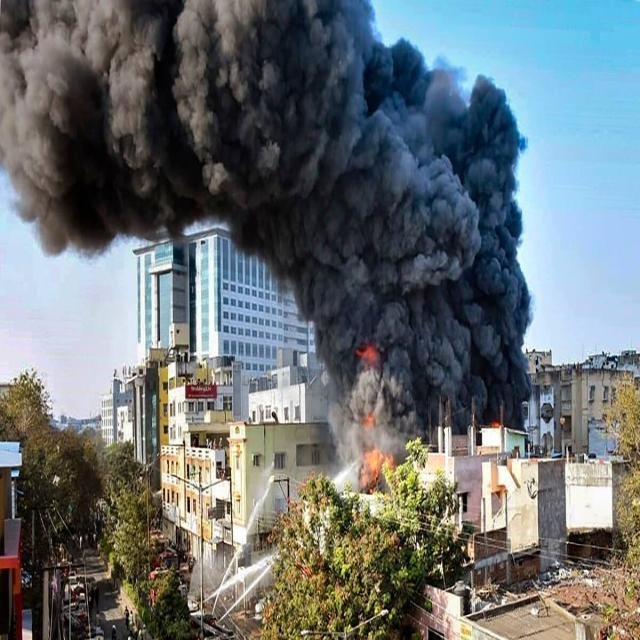Smoke: (2, 0, 536, 421)
